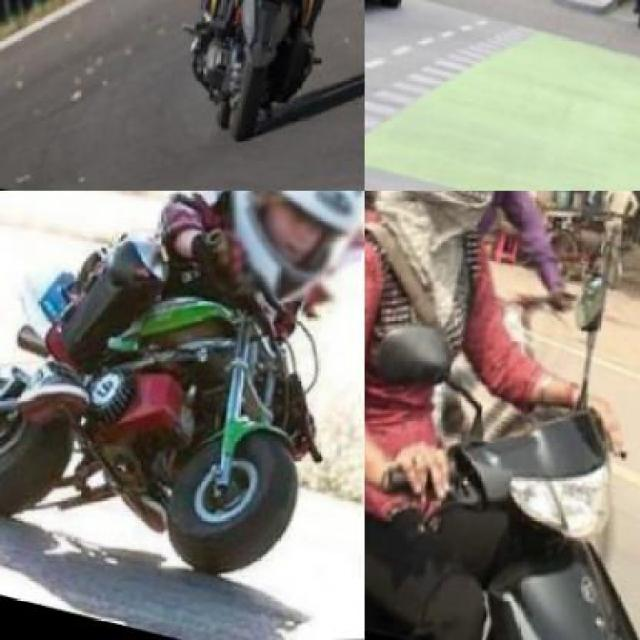With Helmet: (197, 191, 363, 318), (374, 190, 541, 264)
